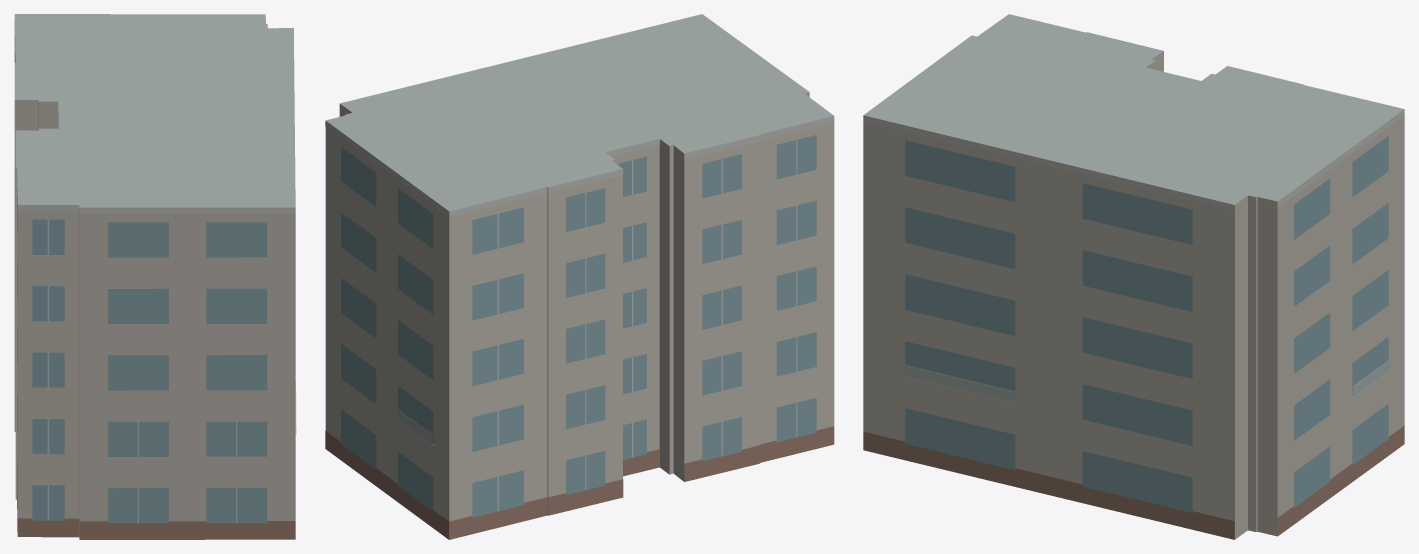
The model's file is survey-upis-33046615.glb.
The picture shows the model from 3 angles, left to right: view 1: azimuth 30°, elevation 25°; view 2: azimuth 150°, elevation 25°; view 3: azimuth 270°, elevation 25°; orthographic projection.
Parts seen in each view (by area): view 1: survey-upis-33046615.tmp; view 2: survey-upis-33046615.tmp; view 3: survey-upis-33046615.tmp.
Part boxes in pixels (x1=…): survey-upis-33046615.tmp: x1=14, y1=14, x2=296, y2=539; survey-upis-33046615.tmp: x1=325, y1=14, x2=834, y2=539; survey-upis-33046615.tmp: x1=863, y1=14, x2=1404, y2=539.
Bounding box in the file's own units: 16.15 × 13.2 × 19.35.
